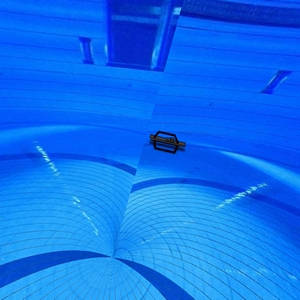submarine: (146, 124, 192, 159)
